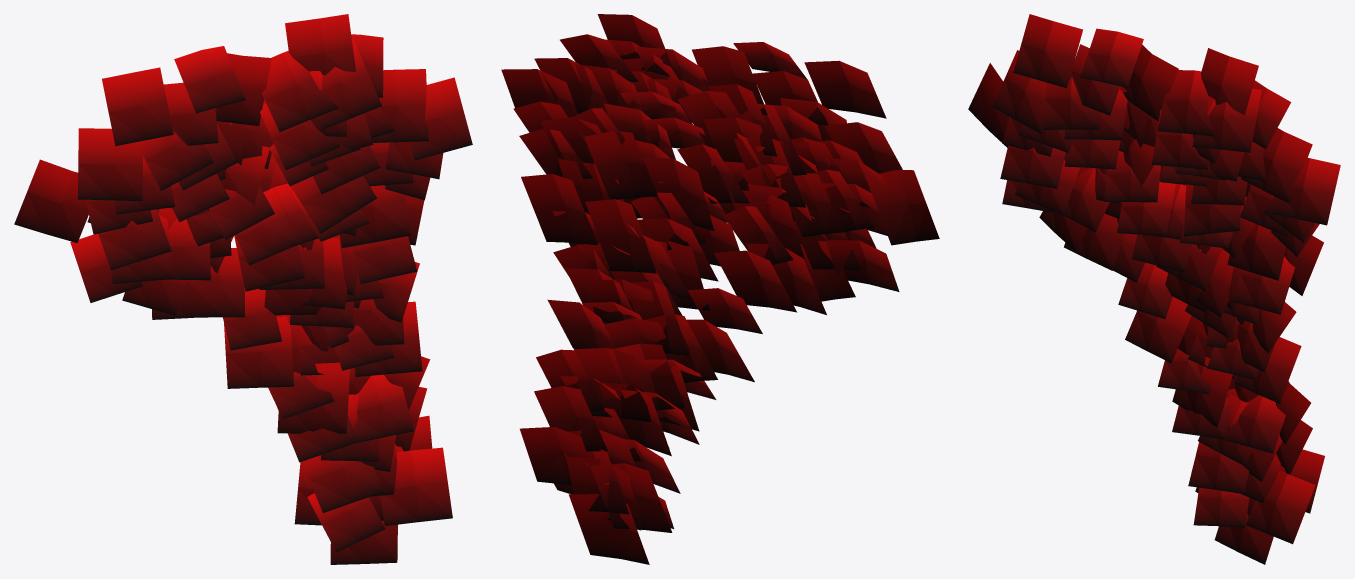
Rendered from Ivy01.fbx.
The picture shows the model from 3 angles, left to right: view 1: azimuth 30°, elevation 25°; view 2: azimuth 150°, elevation 25°; view 3: azimuth 330°, elevation 25°; orthographic projection. The views are drawn at different scales.
Parts seen in each view (by area): view 1: transform20; view 2: transform20; view 3: transform20.
Part boxes in pixels (box(x1,y1,x2,y2)): transform20: box(14, 14, 472, 564); transform20: box(501, 14, 939, 564); transform20: box(968, 14, 1340, 564).
Bounding box in the file's own units: 402 × 486 × 67.58.
